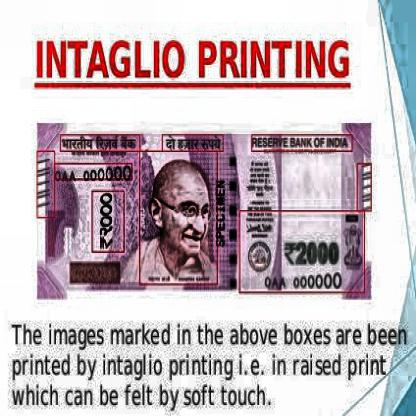Rs2000: (282, 240, 340, 268)
